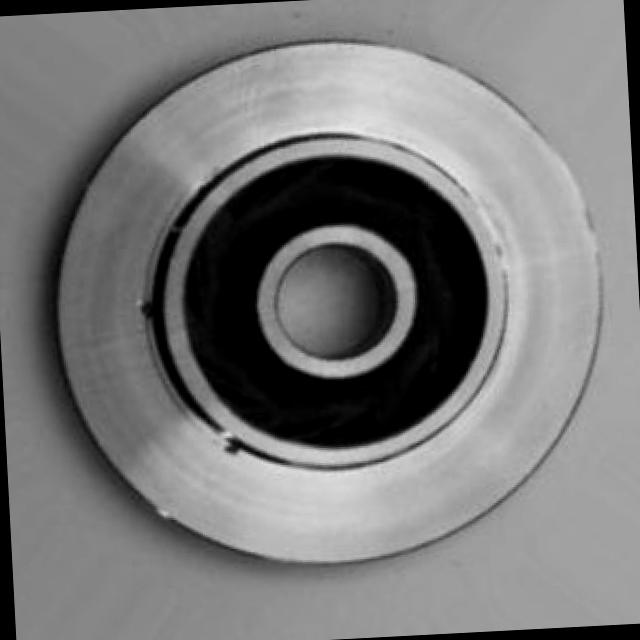Defect: (128, 288, 162, 322)
